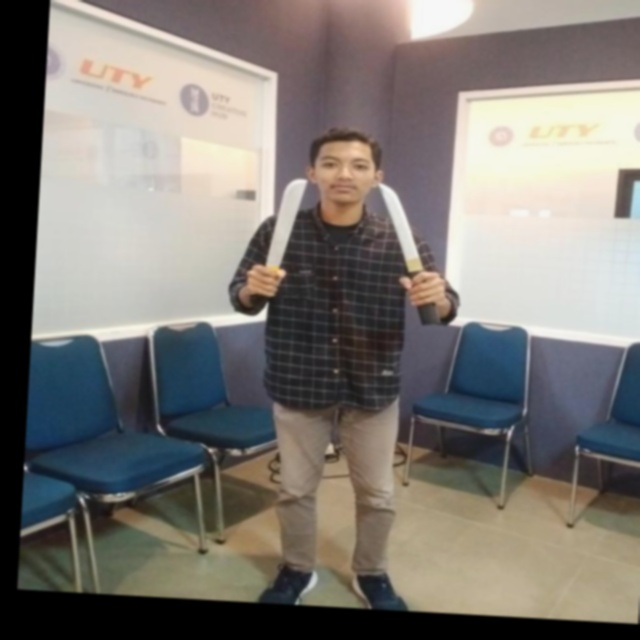Sharp-Object: (236, 172, 318, 323), (365, 179, 447, 329)
